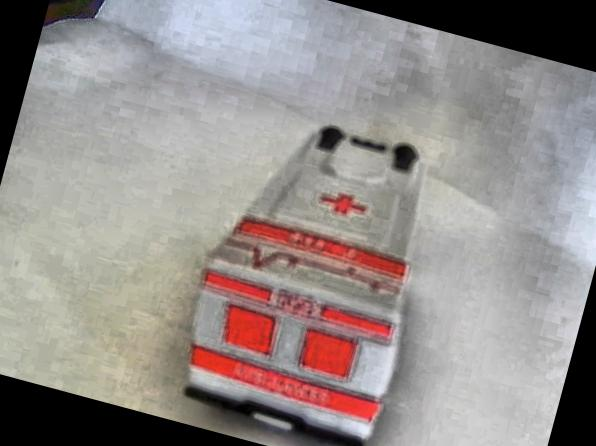ambulance: (165, 100, 451, 446)
